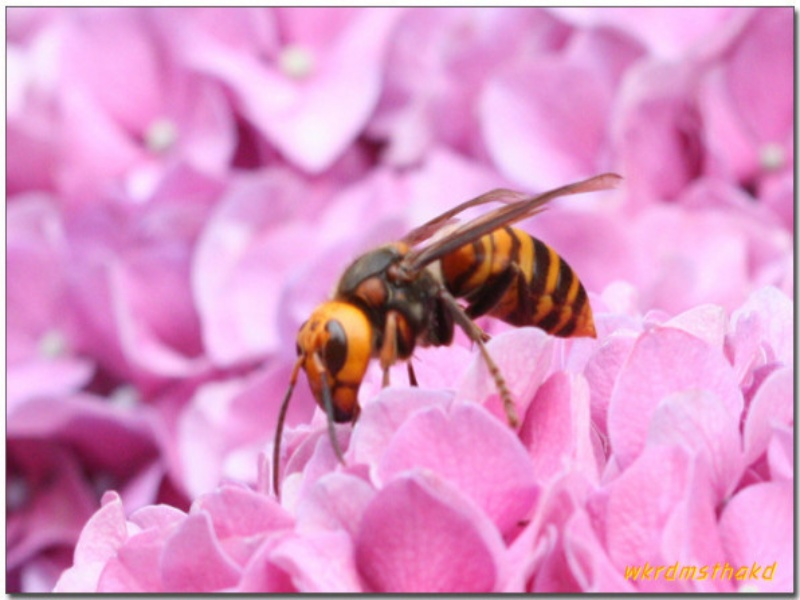asian_giant_hornet: (291, 182, 599, 429)
